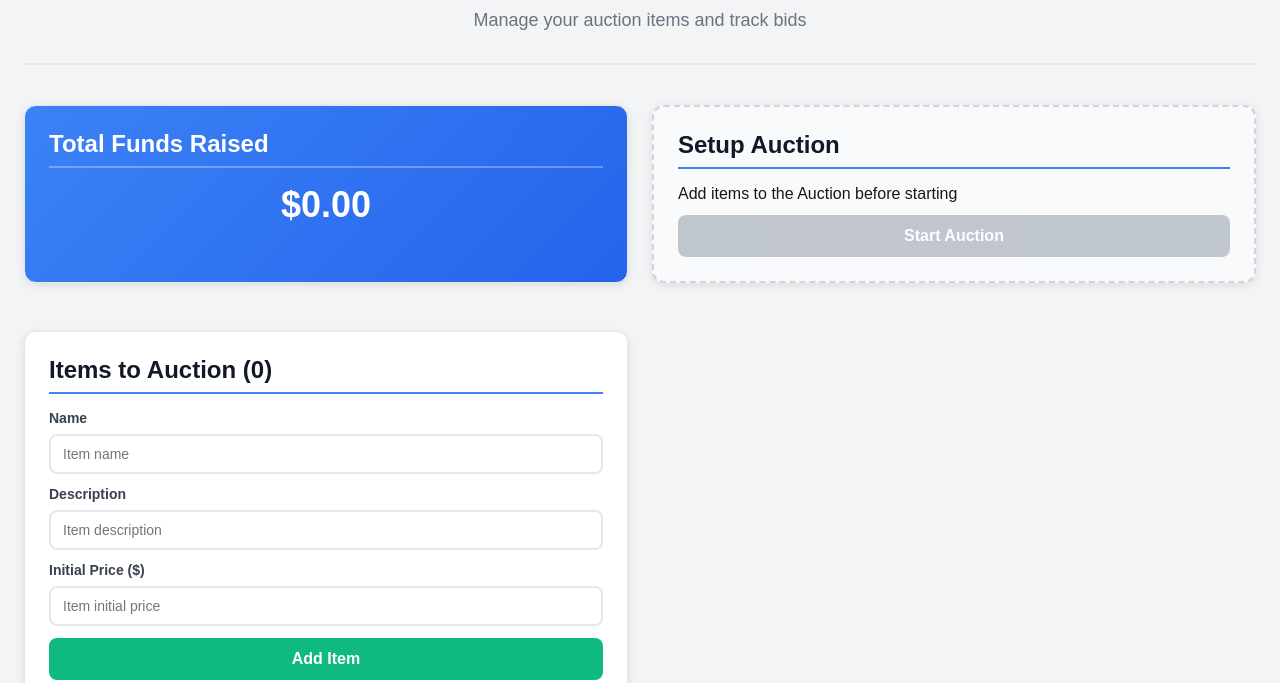
Test case: Place Bid Test
In the field with test id "new-item-name": x=326, y=454 [49,434,603,474], type "Painting"
In the field with test id "new-item-description": x=326, y=530 [49,510,603,550], type "Abstract Art"
In the number field with test id "new-item-initial-price": x=326, y=606 [49,586,603,626], type "100"
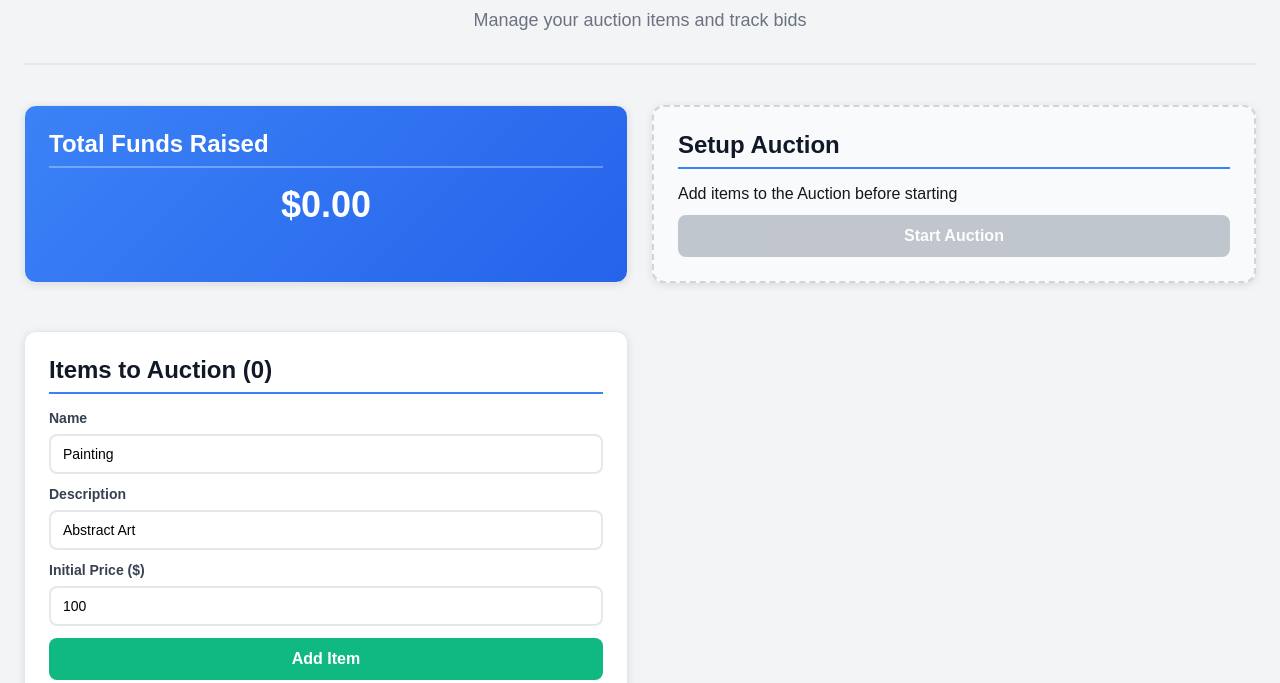
Click the button "Add Item": x=326, y=659 [49,638,603,680]
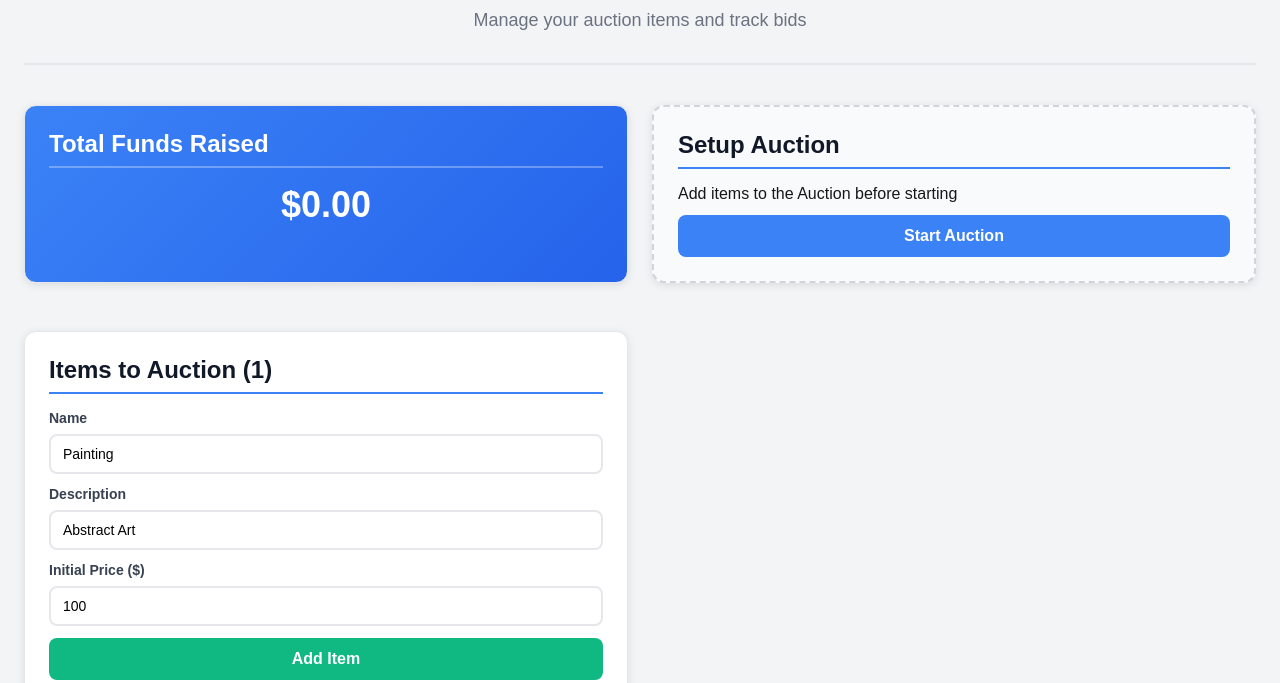
Click the button with test id "start-auction-button": x=954, y=236 [678,215,1230,257]
(page scrolled)
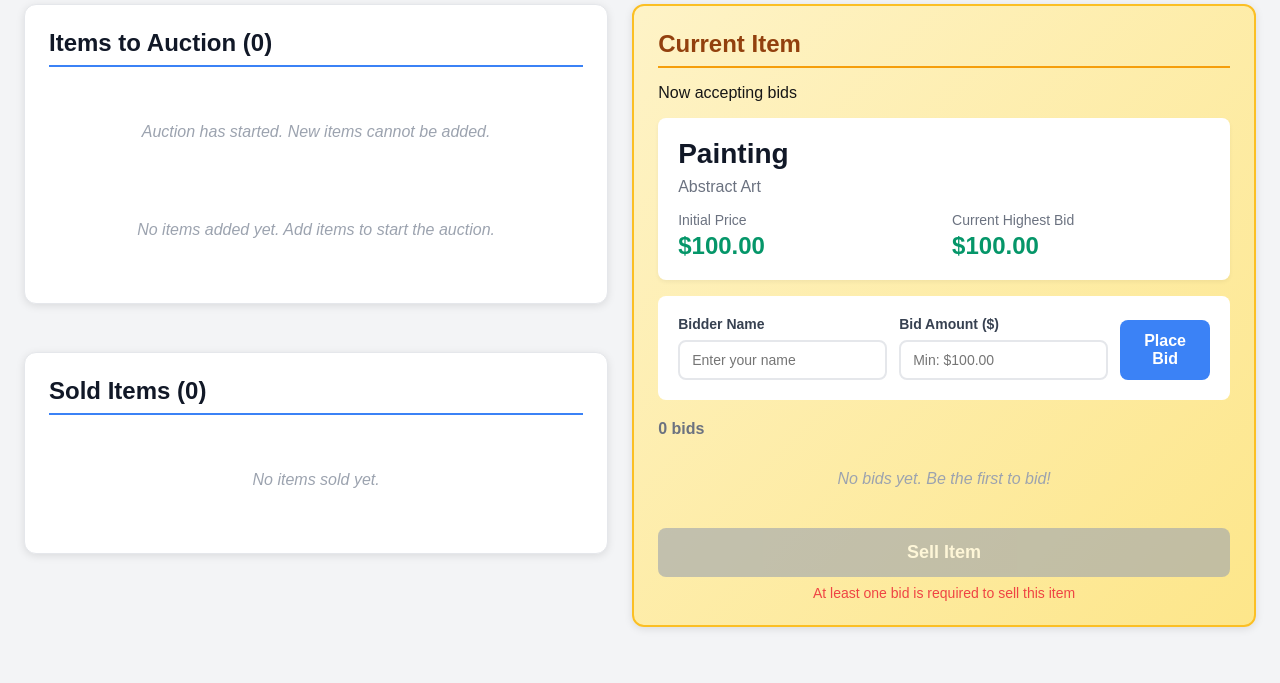
In the field with test id "new-bidder-name": x=783, y=360 [678,340,887,380], type "John Doe"
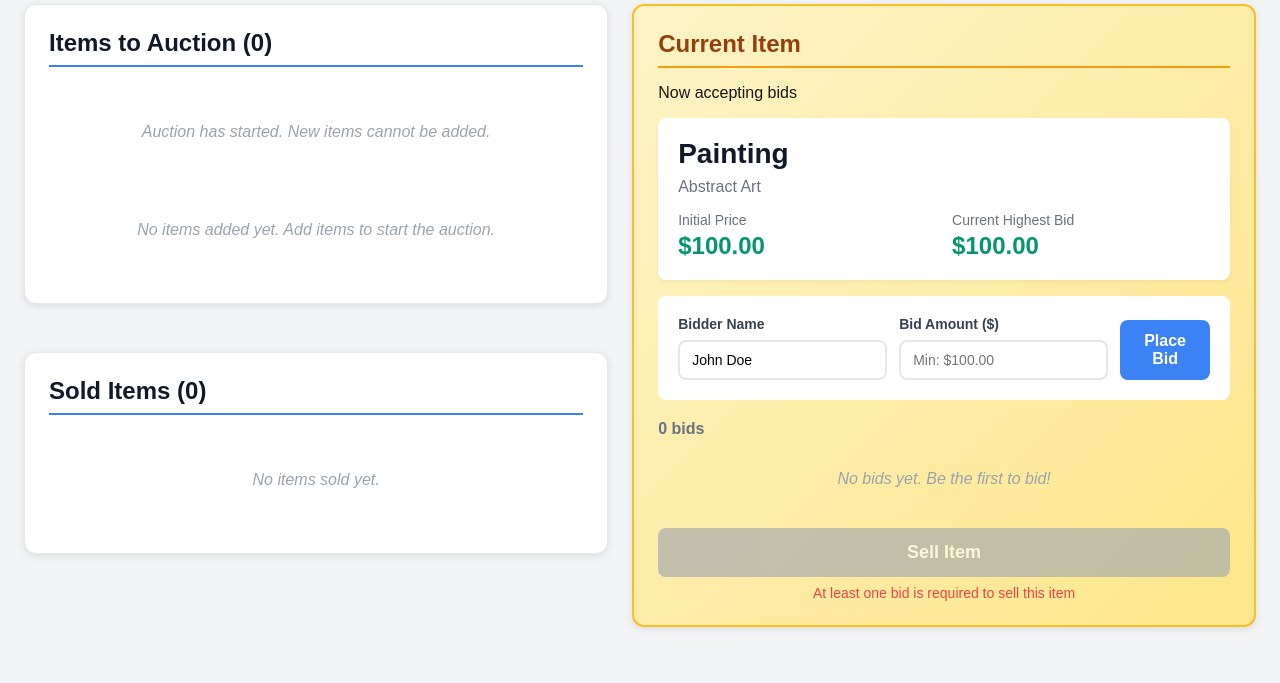
In the number field with test id "new-bid-amount": x=1004, y=360 [899,340,1108,380], type "100"
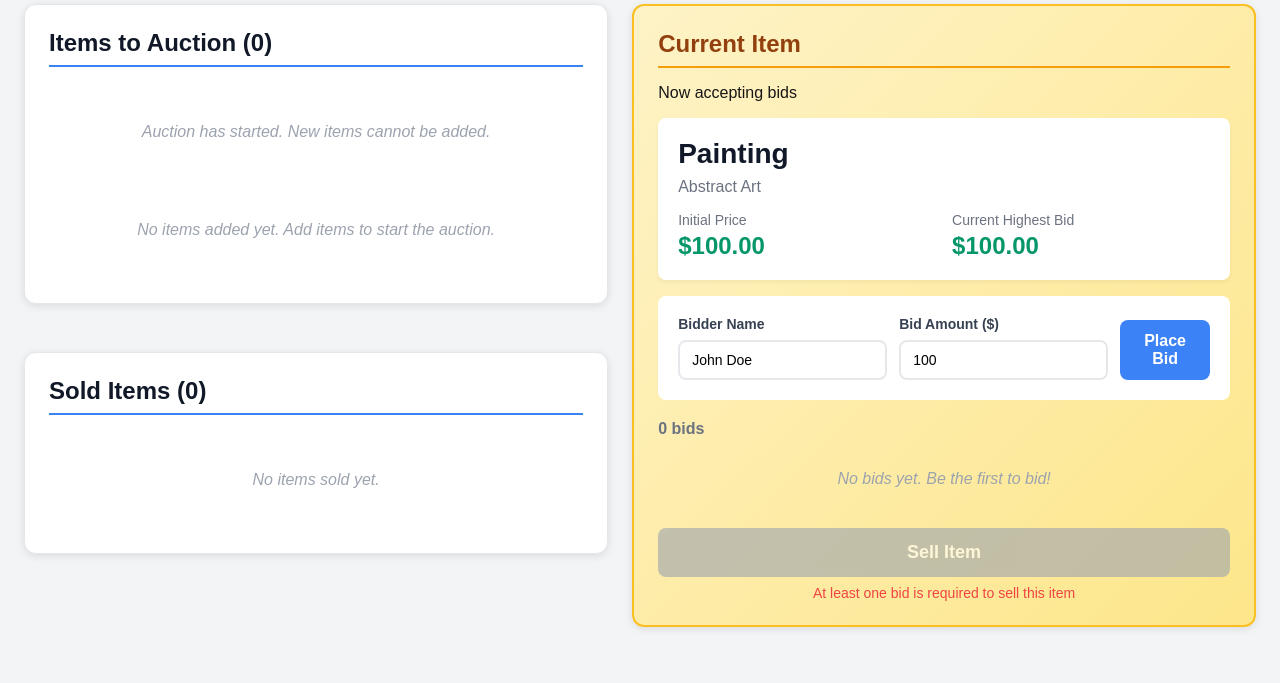
Click the button with test id "place-bid-button": x=1165, y=350 [1120,320,1210,380]
(page scrolled)
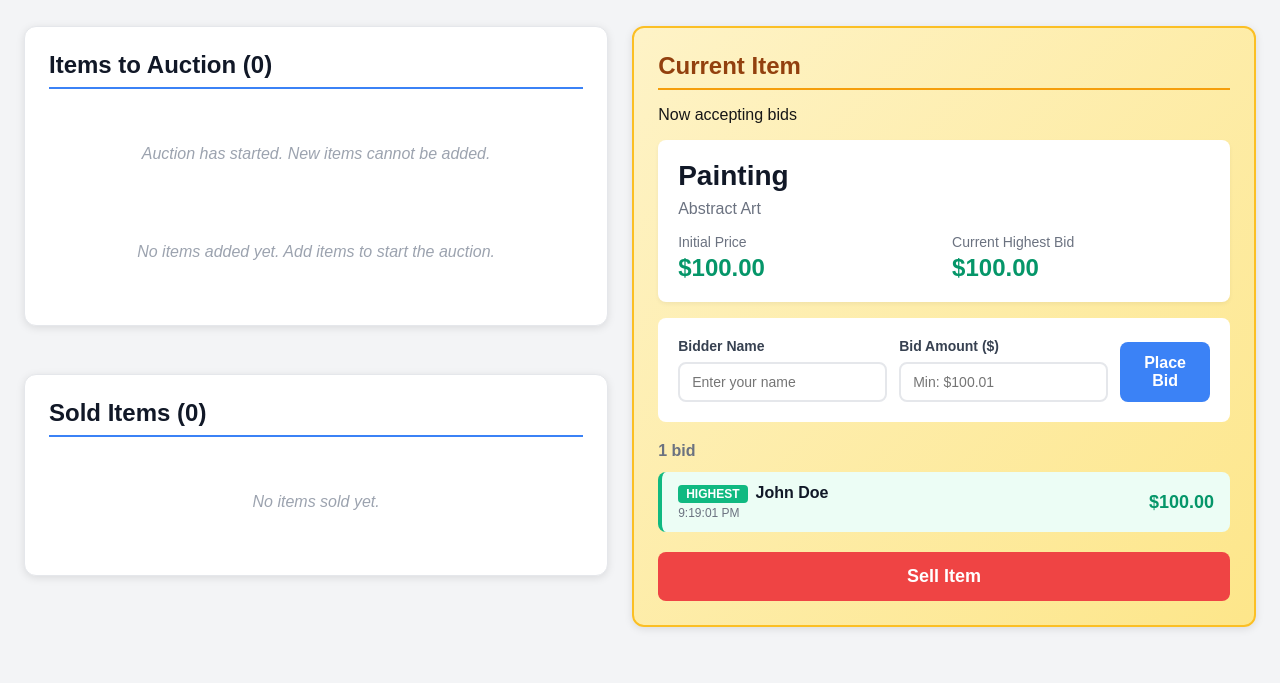
Now the text "John Doe" is shown, box [756,484,828,501]
Now the text "1 bid" is shown, box [658,442,696,459]
